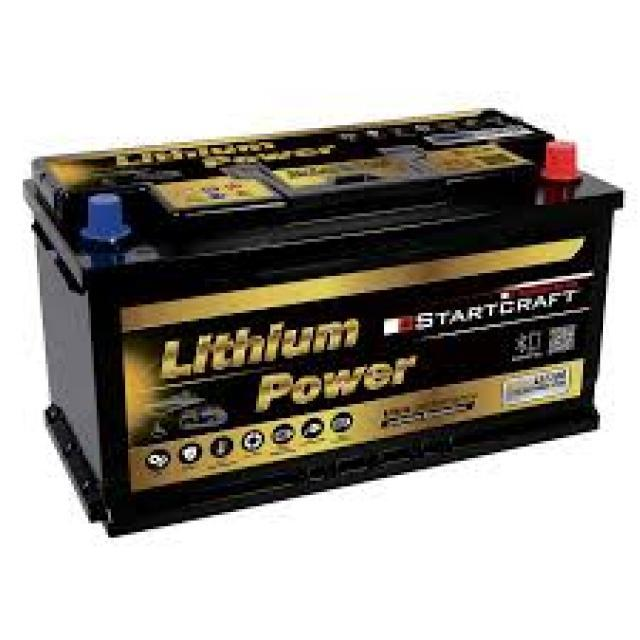battery: (28, 103, 626, 539)
